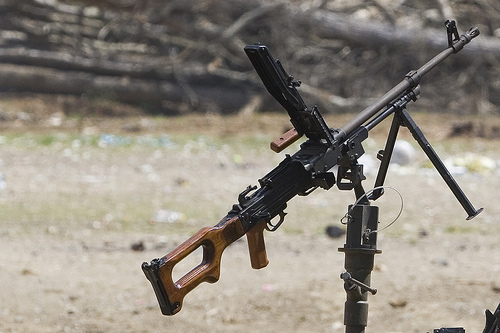rifle: (145, 16, 484, 319)
